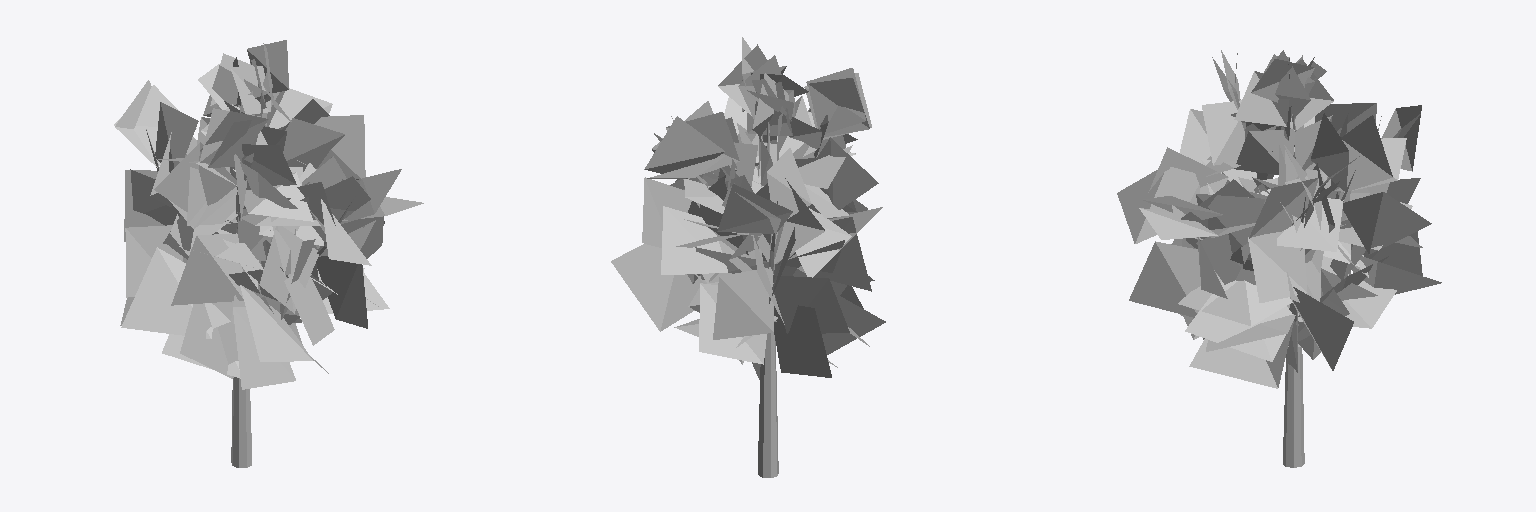
File: human.obj
3 views of the same model, side by side, from view 1: azimuth 30°, elevation 25°; view 2: azimuth 150°, elevation 25°; view 3: azimuth 270°, elevation 25° (orthographic).
Visible parts, largest first — view 1: bircha80; view 2: bircha80; view 3: bircha80.
Boxes of the visible parts, x1=… form: bircha80: x1=114, y1=40, x2=423, y2=467; bircha80: x1=611, y1=37, x2=885, y2=477; bircha80: x1=1117, y1=50, x2=1441, y2=467.
Size of the model in its own units: 10.19 by 17.13 by 11.98.